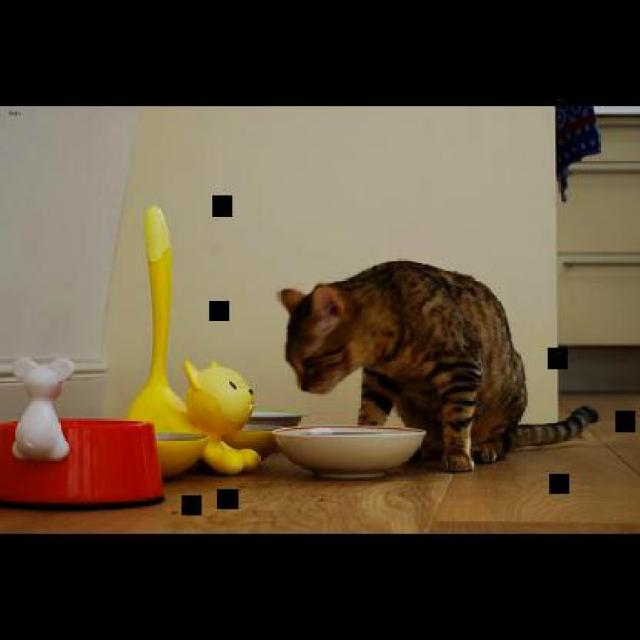unauthorized: (277, 257, 598, 472)
